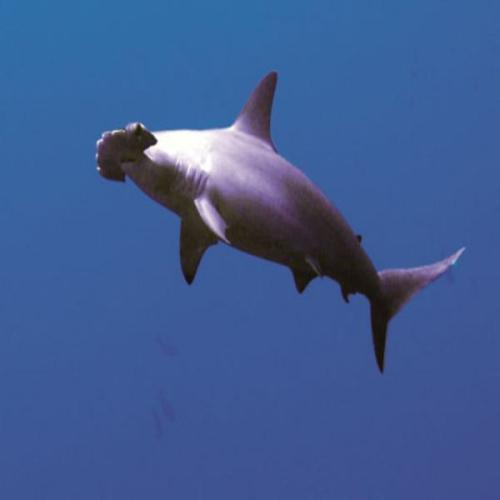shark-endangered: (95, 68, 466, 373)
